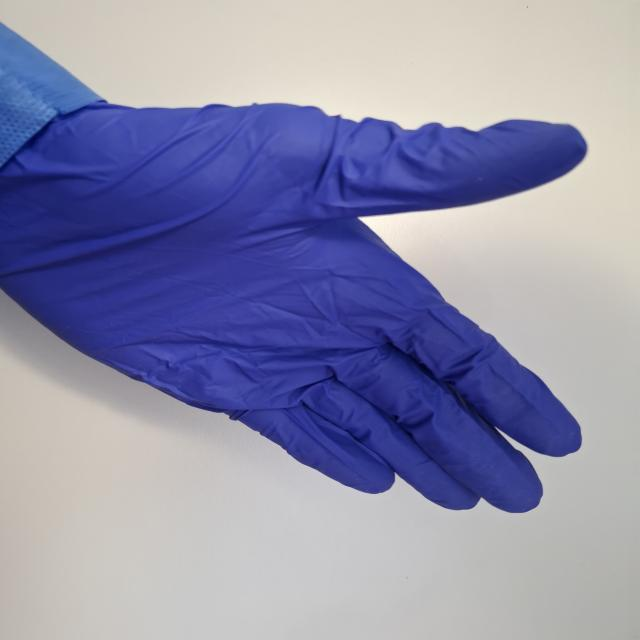glove_on: (0, 96, 591, 519)
